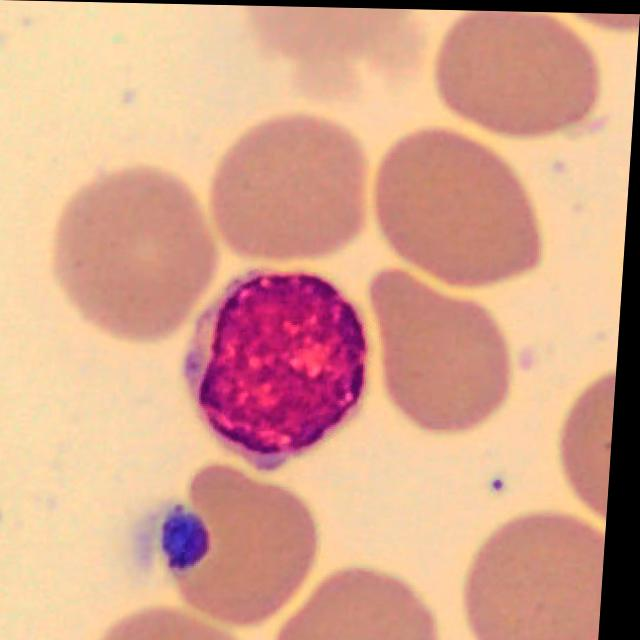Linfocito: (192, 273, 370, 464)
